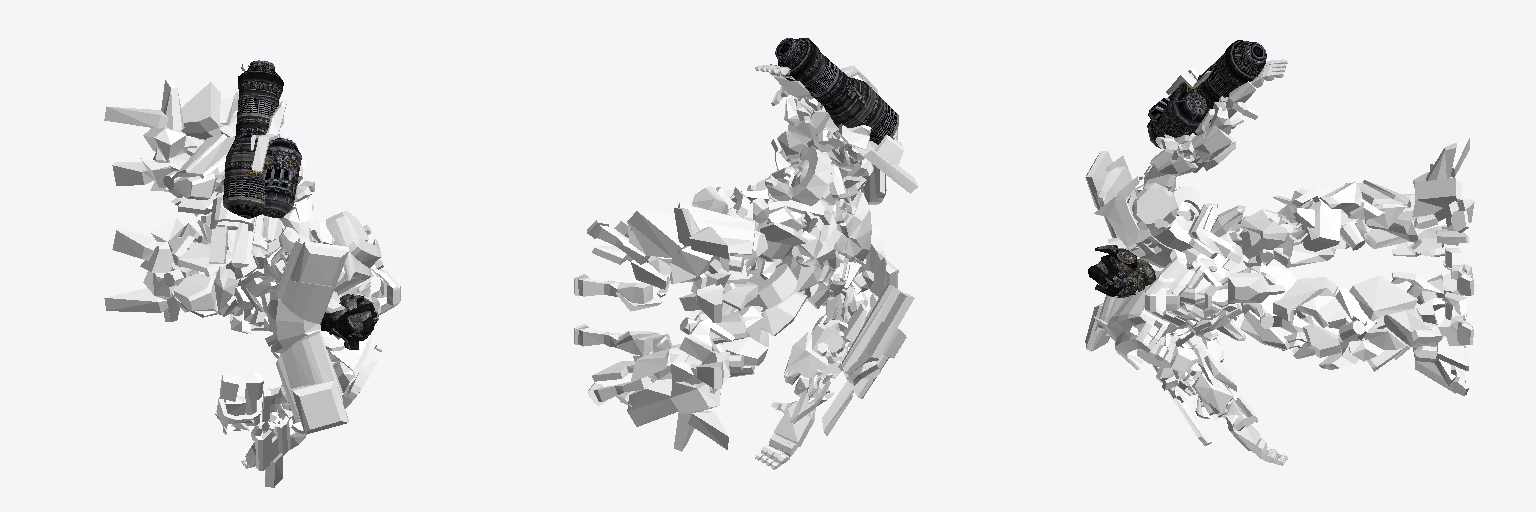
3 renders of one model, left to right at view 1: azimuth 30°, elevation 25°; view 2: azimuth 150°, elevation 25°; view 3: azimuth 270°, elevation 25°, orthographic.
Parts seen in each view (by area): view 1: C_Root_Reference_XR; view 2: C_Root_Reference_XR; view 3: C_Root_Reference_XR.
Boxes of the visible parts, box(x1,y1,x2,y2) form: C_Root_Reference_XR: box(104, 60, 400, 487); C_Root_Reference_XR: box(574, 38, 917, 469); C_Root_Reference_XR: box(1085, 40, 1474, 465).
Size of the model in its own units: 366 by 738 by 624.
Materials: 3 (2 with a texture image).